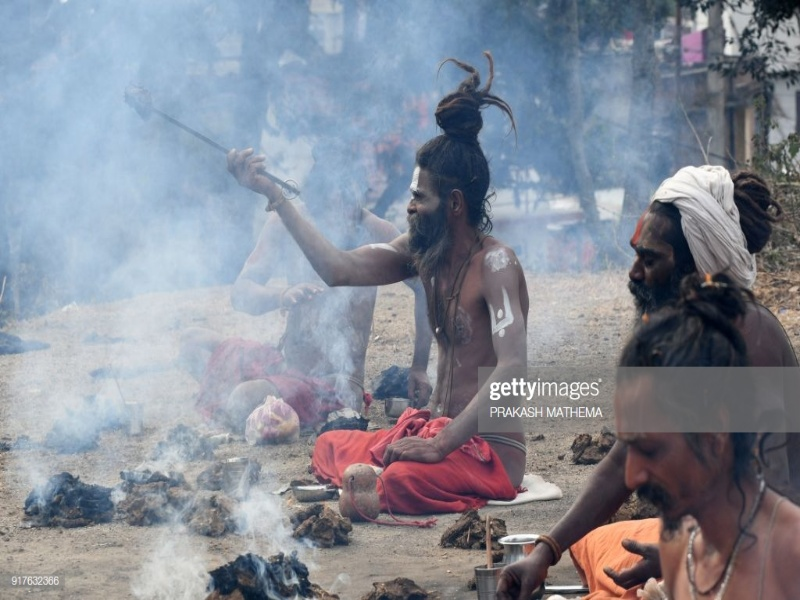smoke: (28, 20, 336, 428)
